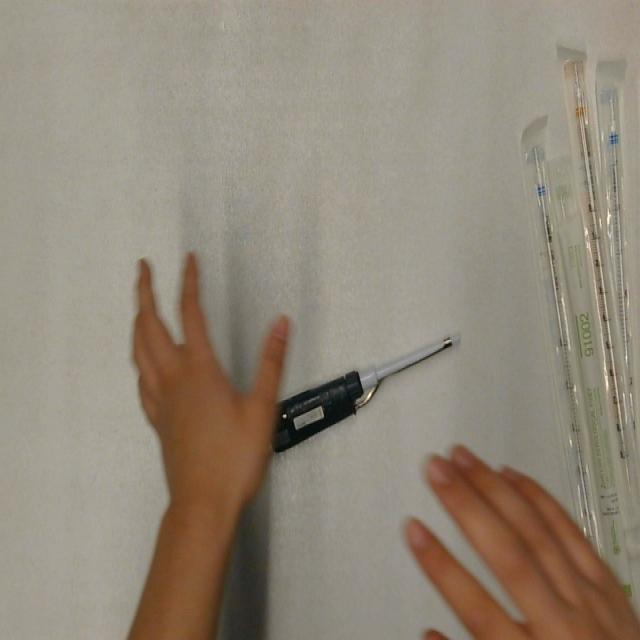Serelogical Pipet 10 mL - Sealed: (560, 45, 640, 533)
Serelogical Pipet 2 mL - Sealed: (545, 155, 638, 614)
Serelogical Pipet 5 mL - Sealed: (520, 120, 604, 594), (593, 56, 640, 456)
Single Channel Pipettor: (267, 328, 465, 455)
